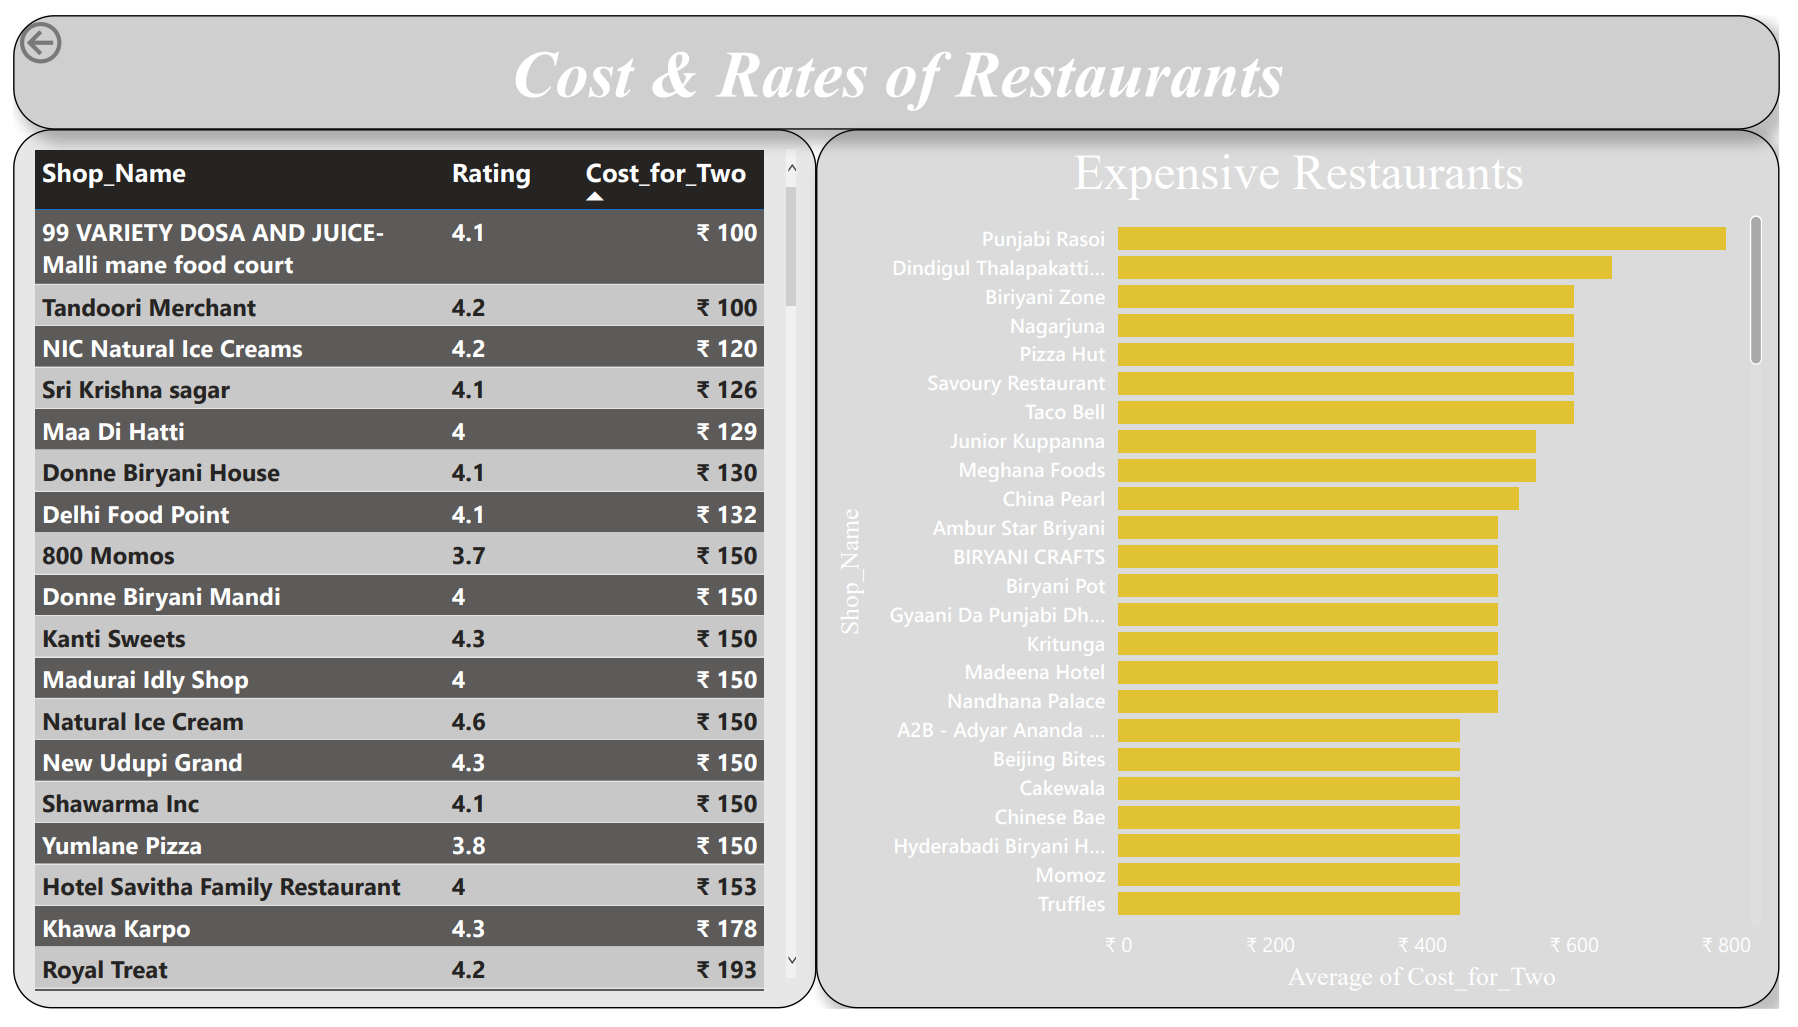

This screenshot's page, from the dashboard's own definition file:
{"tool":"powerbi","page":{"name":"Page 2","canvas":[1280,720],"ordinal":1},"visuals":[{"type":"actionButton","box":[0,0,100,40],"z":0},{"type":"tableEx","fields":{"Values":["Swiggy Bangalore Outlet Details.Shop_Name","Swiggy Bangalore Outlet Details.Rating","Swiggy Bangalore Outlet Details.Cost_for_Two"]},"box":[0,82.6,582.2,637.2],"z":1000},{"type":"clusteredBarChart","title":"Expensive Restaurants ","fields":{"Y":["Avg(Swiggy Bangalore Outlet Details.Cost_for_Two)"],"Category":["Swiggy Bangalore Outlet Details.Shop_Name"]},"box":[582.2,82.6,697.8,637.2],"z":2000},{"type":"textbox","box":[0,0,1280,82.6],"z":3000}]}

Visuals, with their boxes in screenshot pixels (x1, y1, x2, y2), scaled from the page's 1280x720 canvas onto the 1798x1027 screenshot:
actionButton: x1=0 y1=0 x2=140 y2=57
tableEx - Swiggy Bangalore Outlet Details.Shop_Name x Swiggy Bangalore Outlet Details.Rating: x1=0 y1=118 x2=818 y2=1026
"Expensive Restaurants " clusteredBarChart: x1=818 y1=118 x2=1797 y2=1026
textbox: x1=0 y1=0 x2=1797 y2=118
